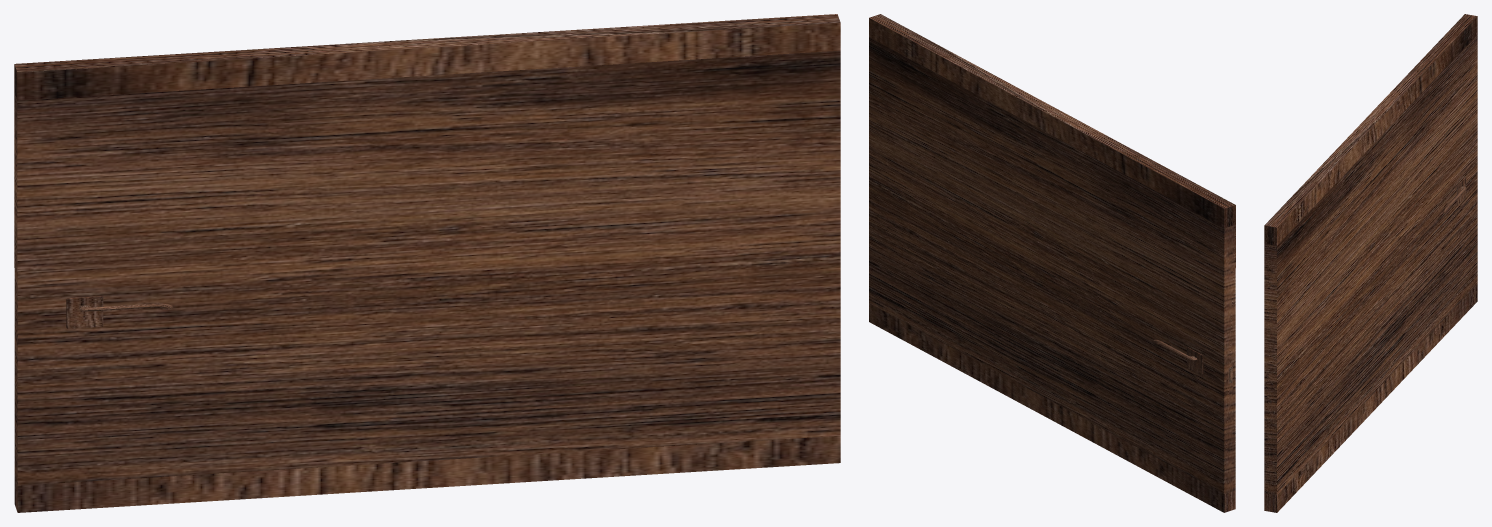
File: puertaEntrada2.obj
The picture shows the model from 3 angles, left to right: view 1: azimuth 30°, elevation 25°; view 2: azimuth 150°, elevation 25°; view 3: azimuth 270°, elevation 25°; orthographic projection. The views are drawn at different scales.
Parts seen in each view (by area): view 1: Door:Mesh; view 2: Door:Mesh; view 3: Door:Mesh.
Boxes of the visible parts, box(x1,y1,x2,y2) form: Door:Mesh: box(14, 14, 840, 512); Door:Mesh: box(869, 14, 1235, 512); Door:Mesh: box(1264, 14, 1477, 512).
Size of the model in its own units: 5.21 by 3.25 by 2.2.
1 material, 1 textured.
